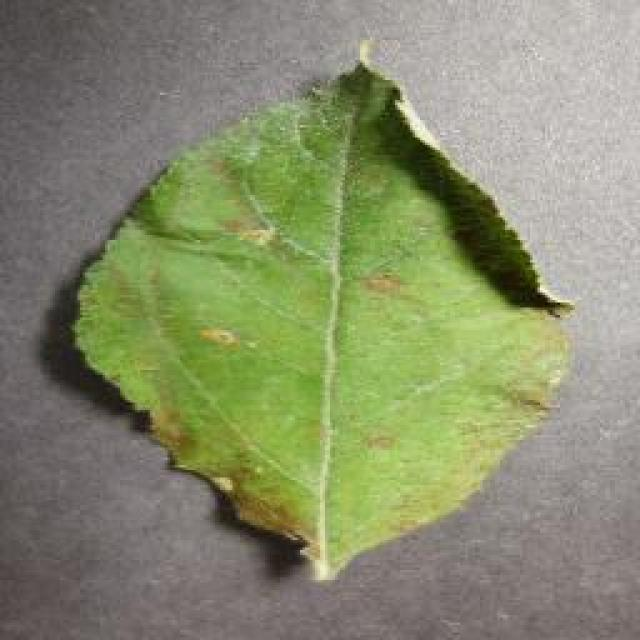apple cedar apple rust: (67, 38, 575, 580)
